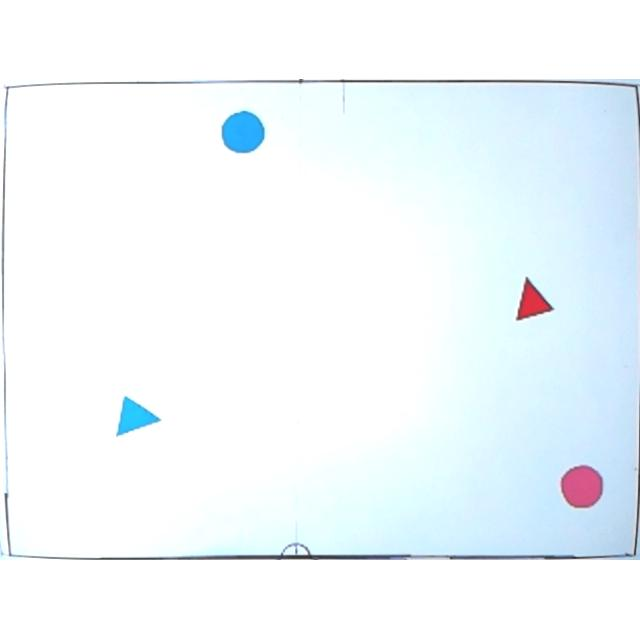blueCircle: (220, 110, 264, 156)
blueTriangle: (115, 398, 158, 438)
pinkCircle: (560, 466, 604, 510)
redTriangle: (509, 278, 555, 326)
